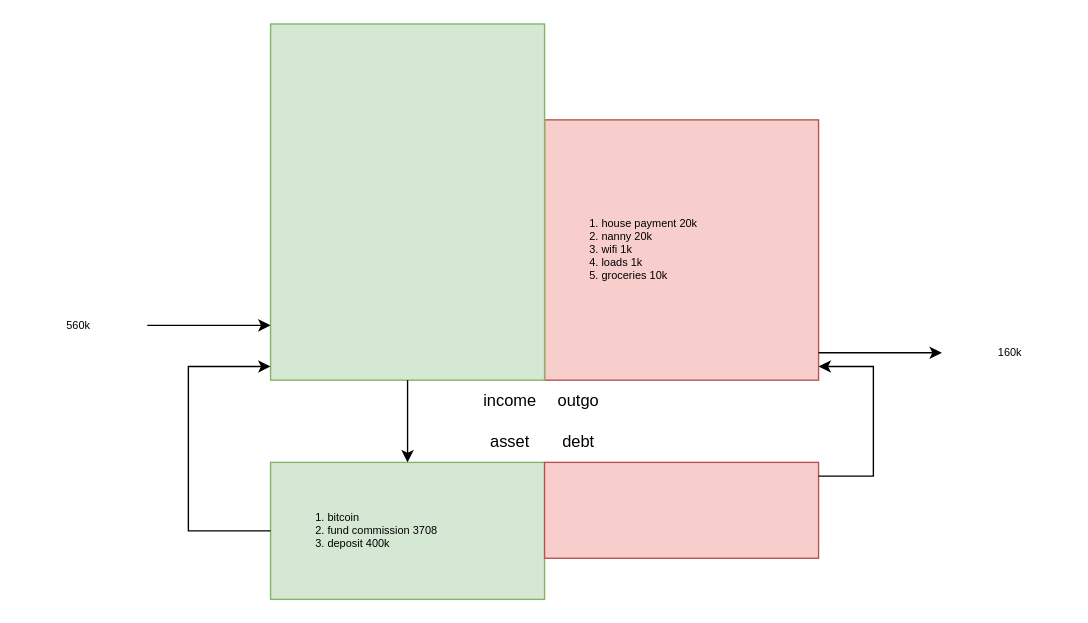
Some shapes in this 1088 by 623 pixel diagram are drawn without their labels. The box of each missing label's shape, as (x1, y1, x2, y2) in pixels:
bitcoin: (543, 461, 819, 558)
Primary salary 400k Second salary 160k: (269, 23, 545, 380)
